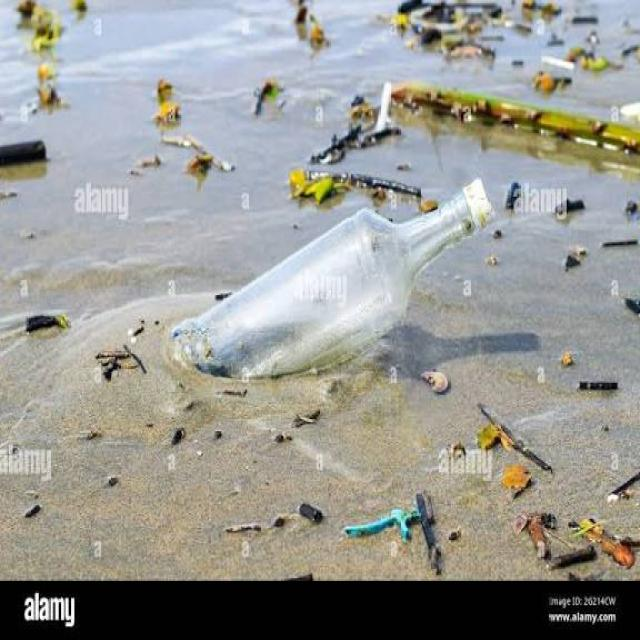glass: (149, 181, 496, 365)
